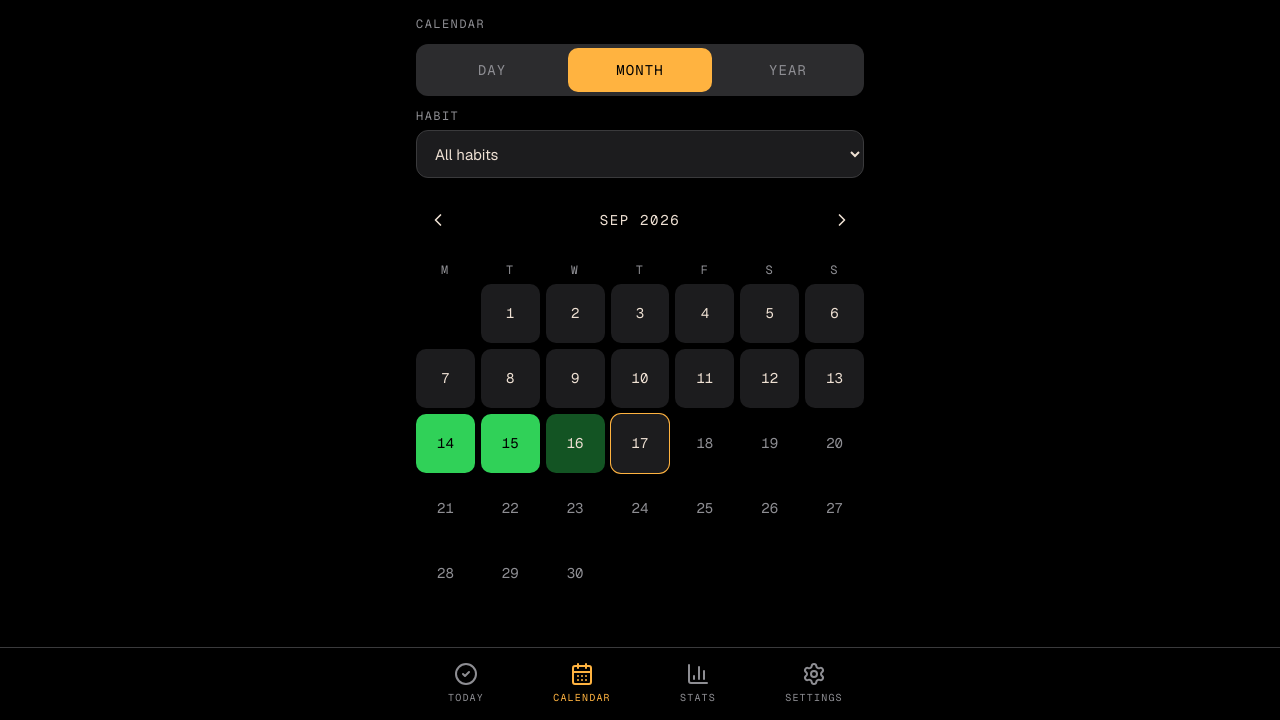
Calendar › pages between months
The width and height of the screenshot is (1280, 720).
Expected: the button named "MON · 14 SEP:" is shown, left=416, top=414, right=475, bottom=472
Click the button named "Previous month" at (438, 220), box left=416, top=198, right=460, bottom=242
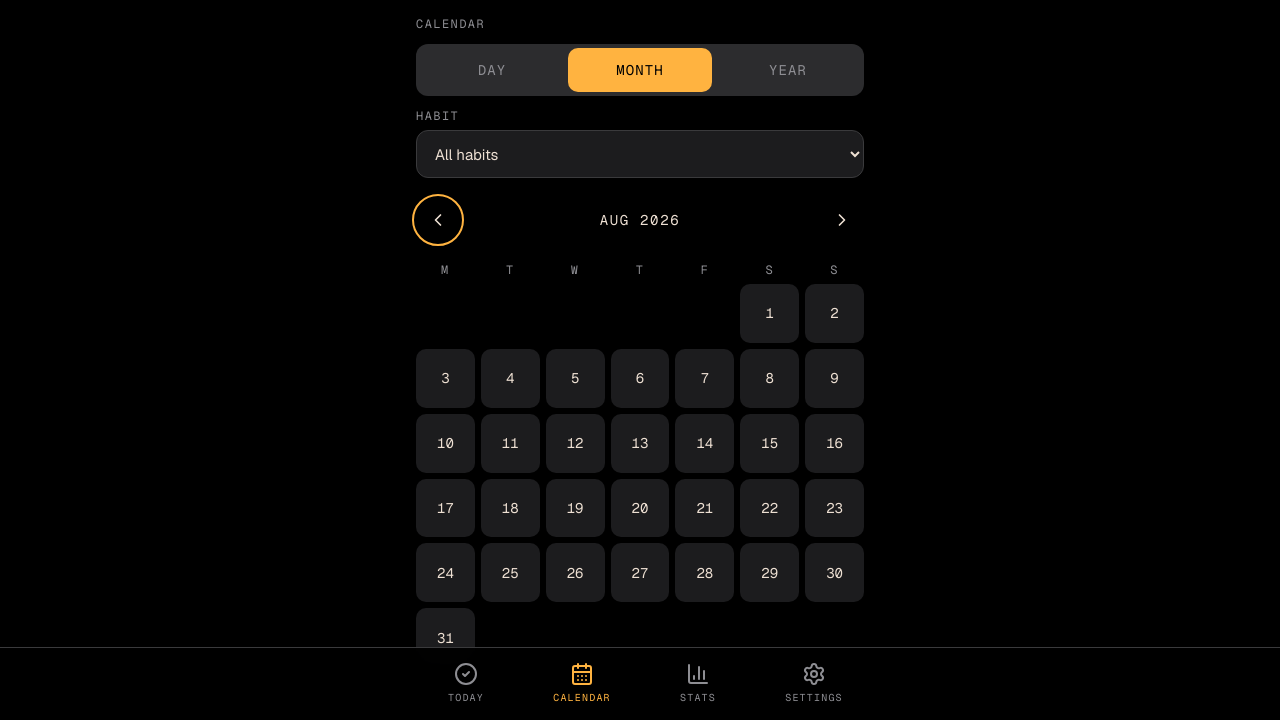
Expected: the heading "AUG 2026" is shown, left=600, top=210, right=680, bottom=230
Click the button named "Next month" at (842, 220), box left=820, top=198, right=864, bottom=242
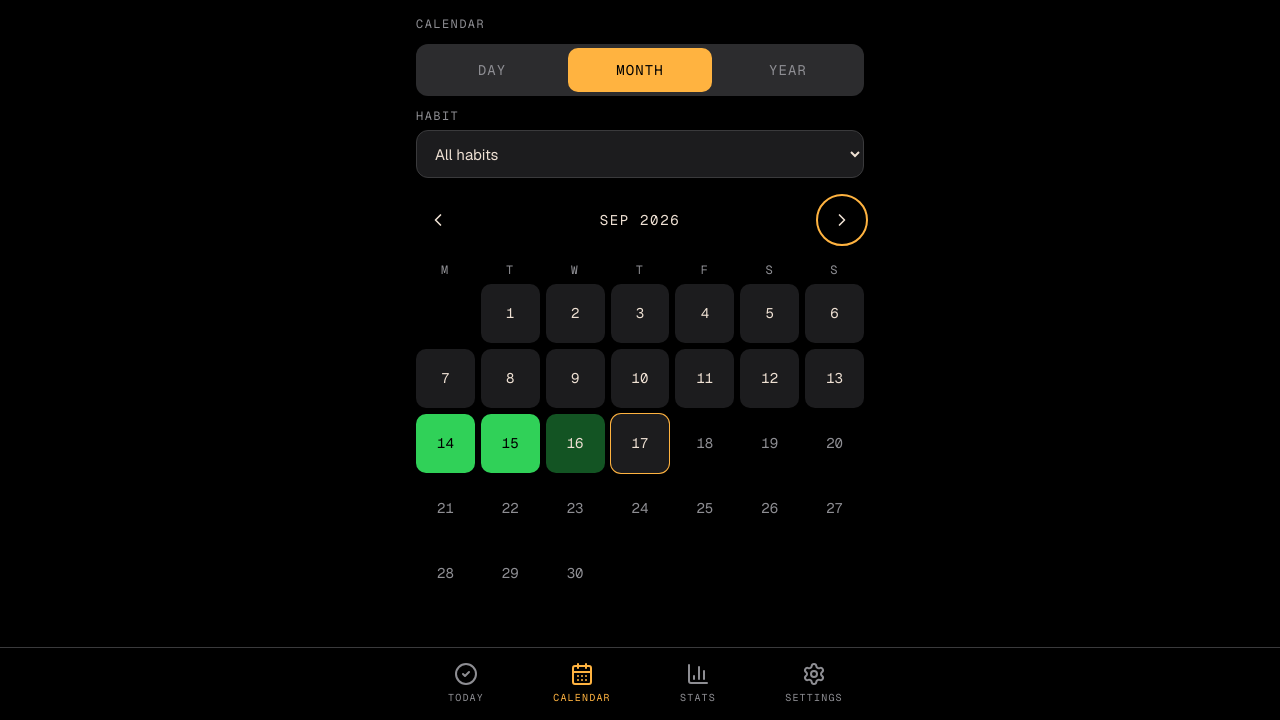
Click the button named "Next month" at (842, 220), box left=820, top=198, right=864, bottom=242
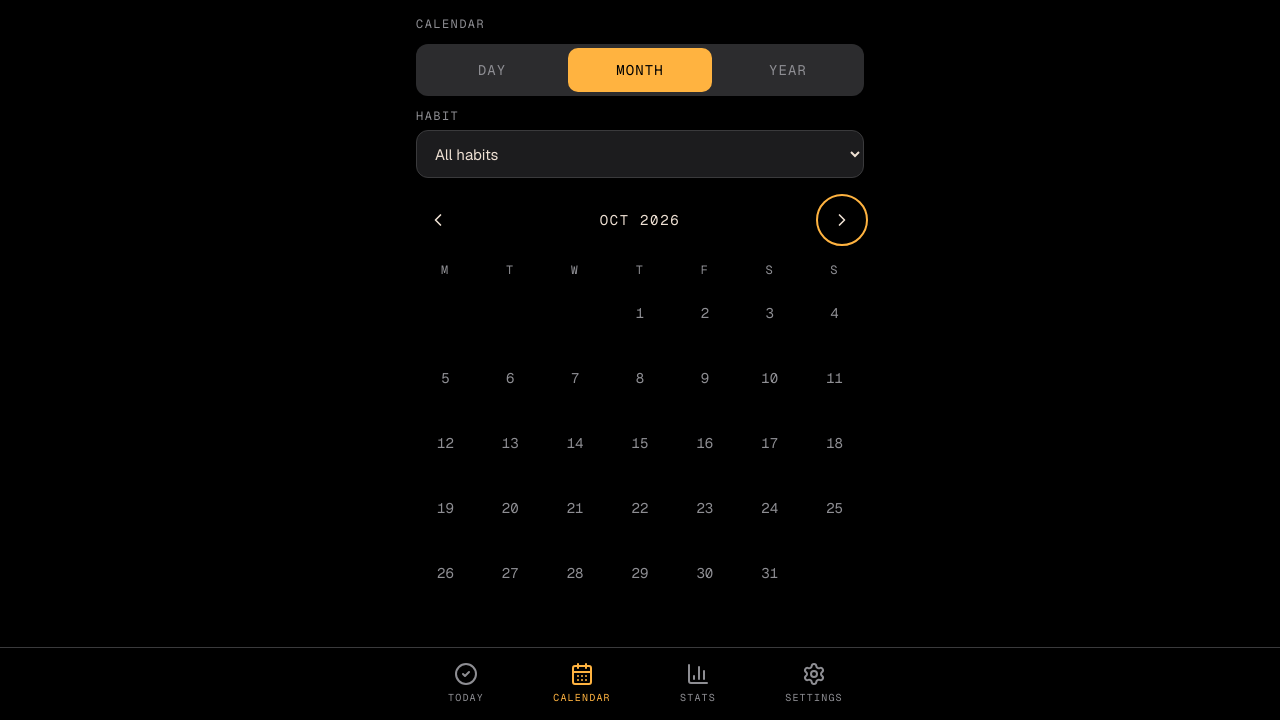
Expected: the heading "OCT 2026" is shown, left=600, top=210, right=680, bottom=230
